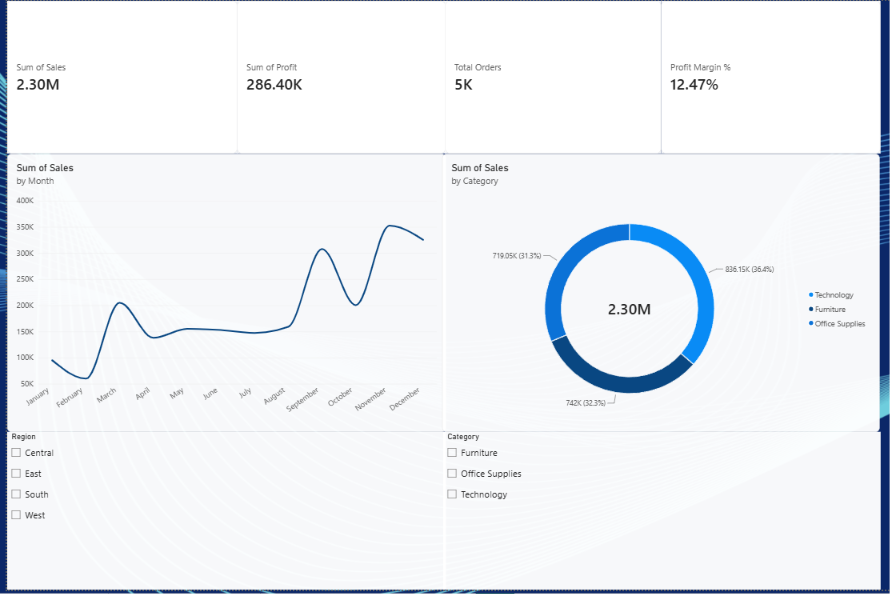

The dashboard page shown, as its layout file describes it:
{"tool":"powerbi","page":{"name":"Executive Overview","canvas":[1920,1080],"ordinal":0},"visuals":[{"type":"cardVisual","fields":{"Data":["Sum(Sample - Superstore.Sales)"]},"box":[0,0,422,280],"z":0},{"type":"cardVisual","fields":{"Data":["Sum(Sample - Superstore.Profit)"]},"box":[422,0,382,280],"z":1000},{"type":"cardVisual","fields":{"Data":["Sample - Superstore.Profit Margin %"]},"box":[1200,0,402,280],"z":2000},{"type":"cardVisual","fields":{"Data":["Sample - Superstore.Total Orders"]},"box":[804,0,396,280],"z":3000},{"type":"lineChart","fields":{"Category":["Sample - Superstore.Order Date.Variation.Date Hierarchy.Month"],"Y":["Sum(Sample - Superstore.Sales)"]},"box":[0,280,805,510],"z":4000},{"type":"donutChart","fields":{"Category":["Sample - Superstore.Category"],"Y":["Sum(Sample - Superstore.Sales)"]},"box":[797.5,280,802.5,510],"z":5000},{"type":"slicer","fields":{"Values":["Sample - Superstore.Region"]},"box":[0,790,805,290],"z":6000},{"type":"slicer","fields":{"Values":["Sample - Superstore.Category"]},"box":[800,790,802.5,290],"z":7000}]}

Visuals, with their boxes on the page's 1920x1080 design canvas (x1, y1, x2, y2). These are canvas units, not pixel positions in the 890x594 screenshot, which may show the page scaled, cropped or inside an application window:
cardVisual - Sum(Sample - Superstore.Sales): <box>0,0,422,280</box>
cardVisual - Sum(Sample - Superstore.Profit): <box>422,0,804,280</box>
cardVisual - Sample - Superstore.Profit Margin %: <box>1200,0,1602,280</box>
cardVisual - Sample - Superstore.Total Orders: <box>804,0,1200,280</box>
lineChart - Sample - Superstore.Order Date.Variation.Date Hierarchy.Month x Sum(Sample - Superstore.Sales): <box>0,280,805,790</box>
donutChart - Sample - Superstore.Category x Sum(Sample - Superstore.Sales): <box>798,280,1600,790</box>
slicer - Sample - Superstore.Region: <box>0,790,805,1080</box>
slicer - Sample - Superstore.Category: <box>800,790,1602,1080</box>
